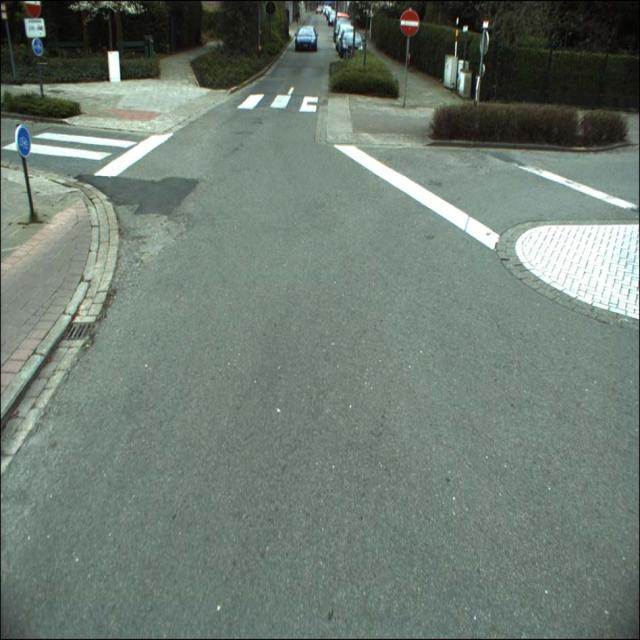girisyok: (400, 10, 419, 36)
